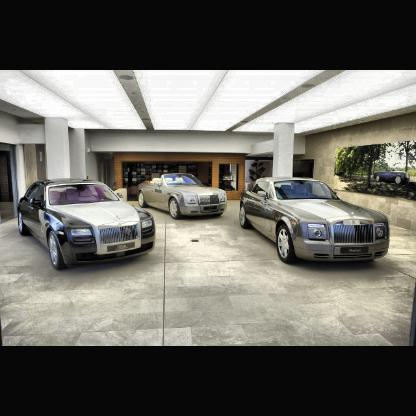Rolls-Royce Ghost Sedan 2012: (239, 176, 392, 265)
